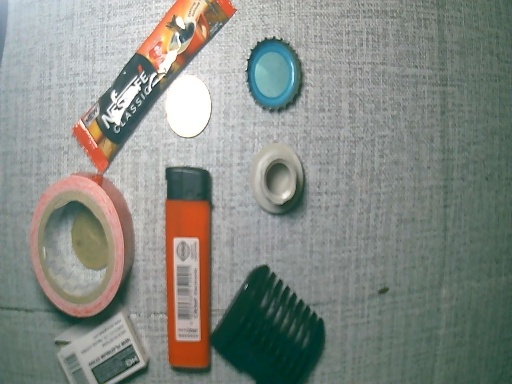metal: (243, 31, 305, 110), (163, 73, 211, 138), (73, 207, 111, 270)
plastic: (75, 1, 239, 171)
trash: (27, 174, 133, 319), (213, 263, 325, 384), (164, 162, 211, 375), (50, 311, 149, 384), (249, 143, 308, 217)
